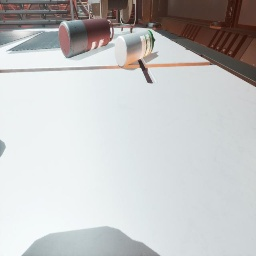0: (114, 30, 156, 68)
NitrogenTank ,: (58, 18, 114, 58)
